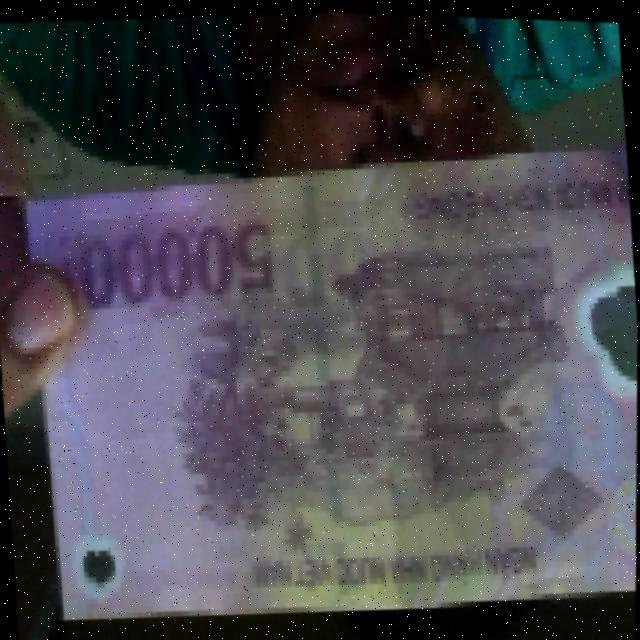50 000 VND: (11, 114, 639, 640)
